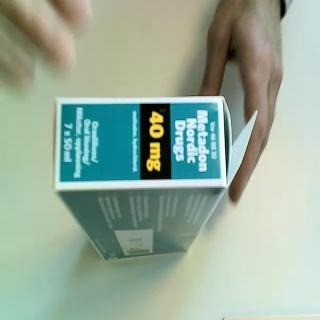metadon_hydrochlorid40mg: (52, 94, 260, 266)
